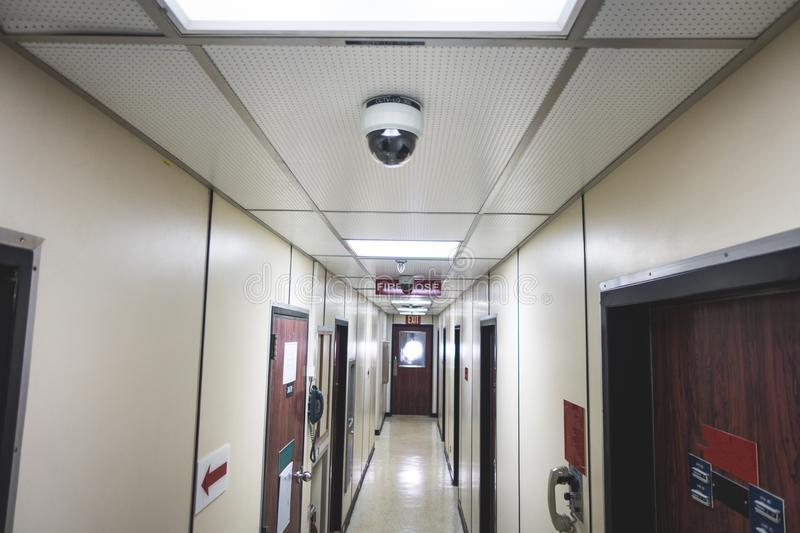CCTV: (365, 94, 424, 170)
